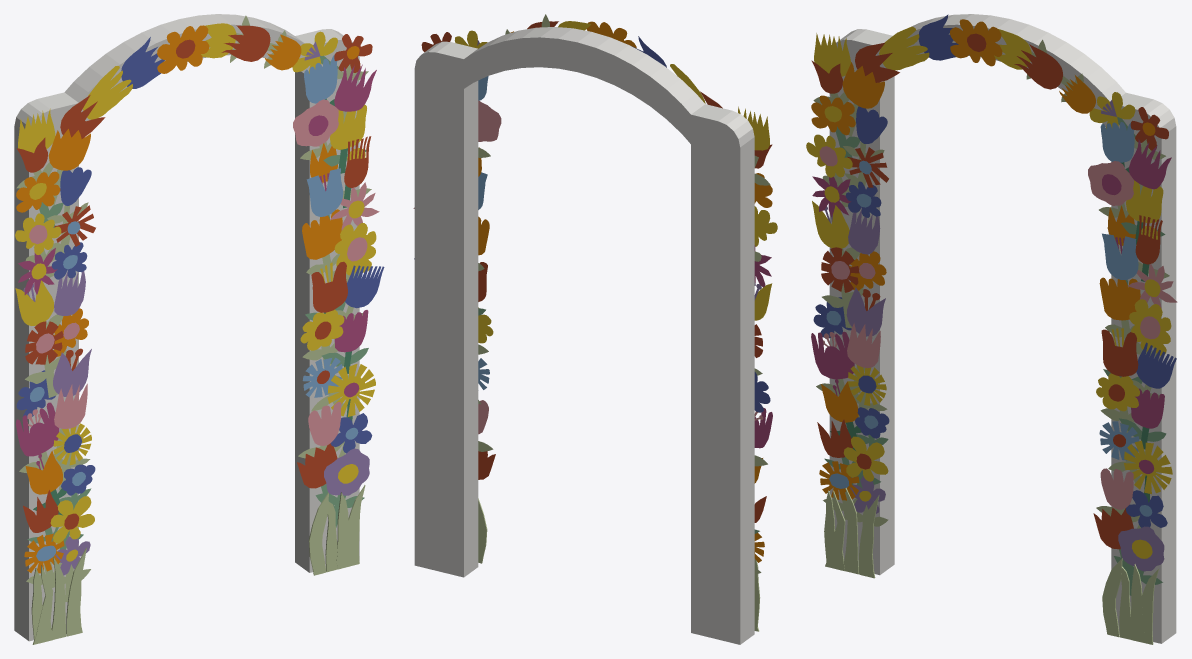
File: varch-3-1.glb
3 views of the same model, side by side, from view 1: azimuth 30°, elevation 25°; view 2: azimuth 150°, elevation 25°; view 3: azimuth 330°, elevation 25° (orthographic).
Visible parts, largest first — view 1: pl_arch, Cube, Plane.047, Plane.021, Plane.133, Plane.121, Plane.049, Plane.142, Plane.104, Plane.129, Plane.044, Plane.109 (+44 smaller); view 2: pl_arch, Cube, Plane.104, Plane.043, Plane.035, Plane.021; view 3: pl_arch, Cube, Plane.047, Plane.133, Plane.021, Plane.049, Plane.142, Plane.121, Plane.104, Plane.129, Plane.044, Plane.109 (+43 smaller).
Boxes of the visible parts, <box> form: pl_arch: <box>14,14,359,641</box>; Cube: <box>31,485,365,644</box>; Plane.047: <box>157,25,209,73</box>; Plane.021: <box>16,402,59,456</box>; Plane.133: <box>327,364,375,416</box>; Plane.121: <box>302,209,342,259</box>; Plane.049: <box>83,66,132,119</box>; Plane.142: <box>324,448,369,495</box>; Plane.104: <box>293,99,338,146</box>; Plane.129: <box>311,261,347,312</box>; Plane.044: <box>48,129,90,170</box>; Plane.109: <box>306,168,343,216</box>; pl_arch: <box>414,27,754,644</box>; Cube: <box>478,498,760,631</box>; Plane.104: <box>478,100,501,141</box>; Plane.043: <box>738,106,769,150</box>; Plane.035: <box>754,206,777,246</box>; Plane.021: <box>754,407,772,448</box>; pl_arch: <box>829,14,1176,643</box>; Cube: <box>824,488,1158,644</box>; Plane.047: <box>950,19,1002,66</box>; Plane.133: <box>1124,440,1172,494</box>; Plane.021: <box>811,331,854,379</box>; Plane.049: <box>879,26,929,70</box>; Plane.142: <box>1118,526,1164,571</box>; Plane.121: <box>1099,277,1140,320</box>; Plane.104: <box>1088,161,1133,205</box>; Plane.129: <box>1101,329,1138,376</box>; Plane.044: <box>842,62,884,108</box>; Plane.109: <box>1102,233,1138,279</box>.
Size of the model in its own units: 1.31 by 1.97 by 0.1258.
